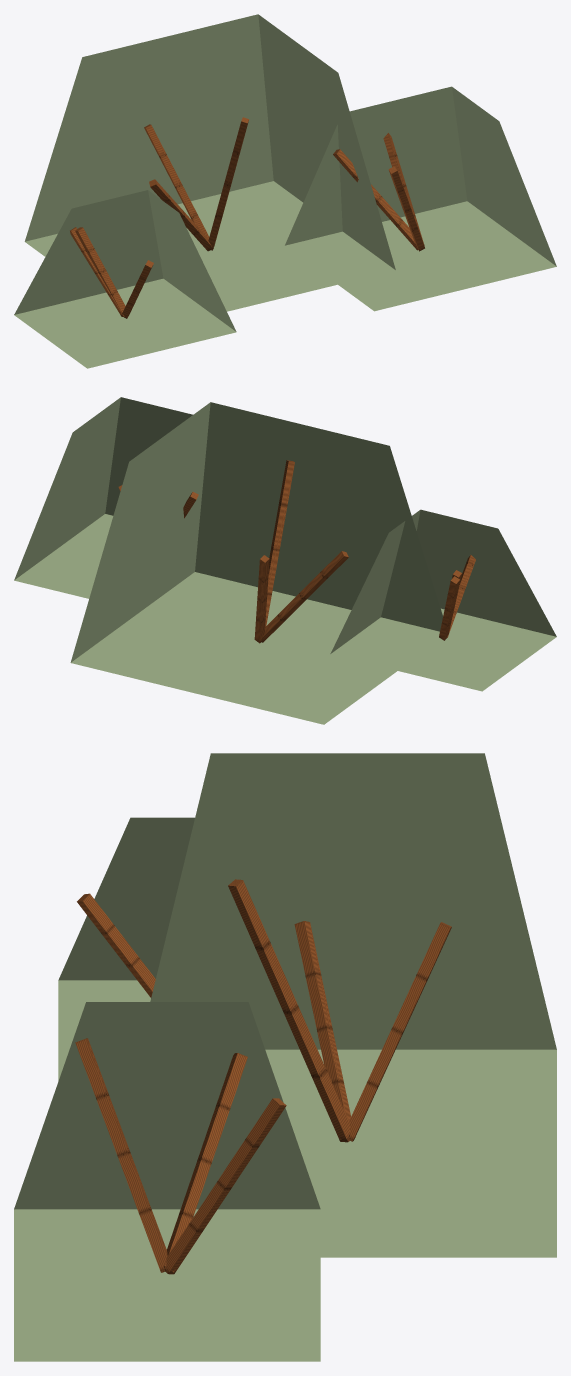
The model's file is safari-camp-and-bush-lodge-scrub-clump-ed89a8a0__37715.glb.
The picture shows the model from 3 angles, top to bottom: view 1: azimuth 30°, elevation 25°; view 2: azimuth 150°, elevation 25°; view 3: azimuth 270°, elevation 25°; orthographic projection. The views are drawn at different scales.
Parts seen in each view (by area): view 1: scrub-clump-scrub, scrub-clump-timber; view 2: scrub-clump-scrub, scrub-clump-timber; view 3: scrub-clump-scrub, scrub-clump-timber.
Part boxes in pixels (left/top/right/bottom): scrub-clump-scrub: left=14, top=14, right=556, bottom=368; scrub-clump-timber: left=70, top=117, right=424, bottom=318; scrub-clump-scrub: left=14, top=397, right=556, bottom=724; scrub-clump-timber: left=118, top=460, right=475, bottom=643; scrub-clump-scrub: left=14, top=753, right=556, bottom=1361; scrub-clump-timber: left=75, top=879, right=451, bottom=1274.
Size of the model in its own units: 2.75 by 1.1 by 1.65.
Materials: 2 (1 with a texture image).
